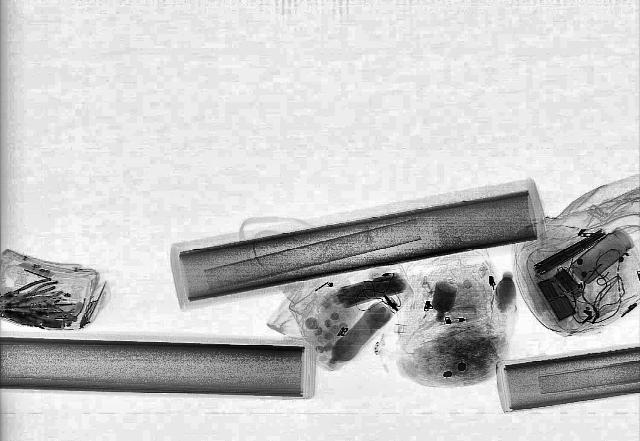Pliers: (6, 280, 60, 306)
